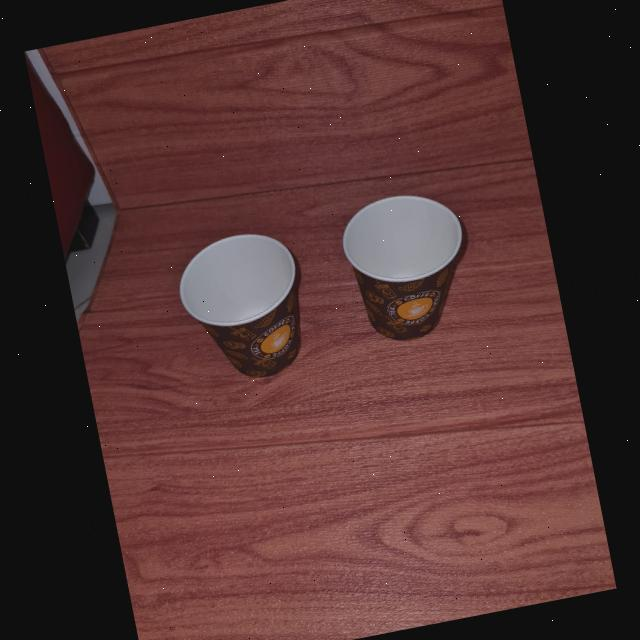trash: (165, 220, 322, 393), (337, 184, 488, 353)
